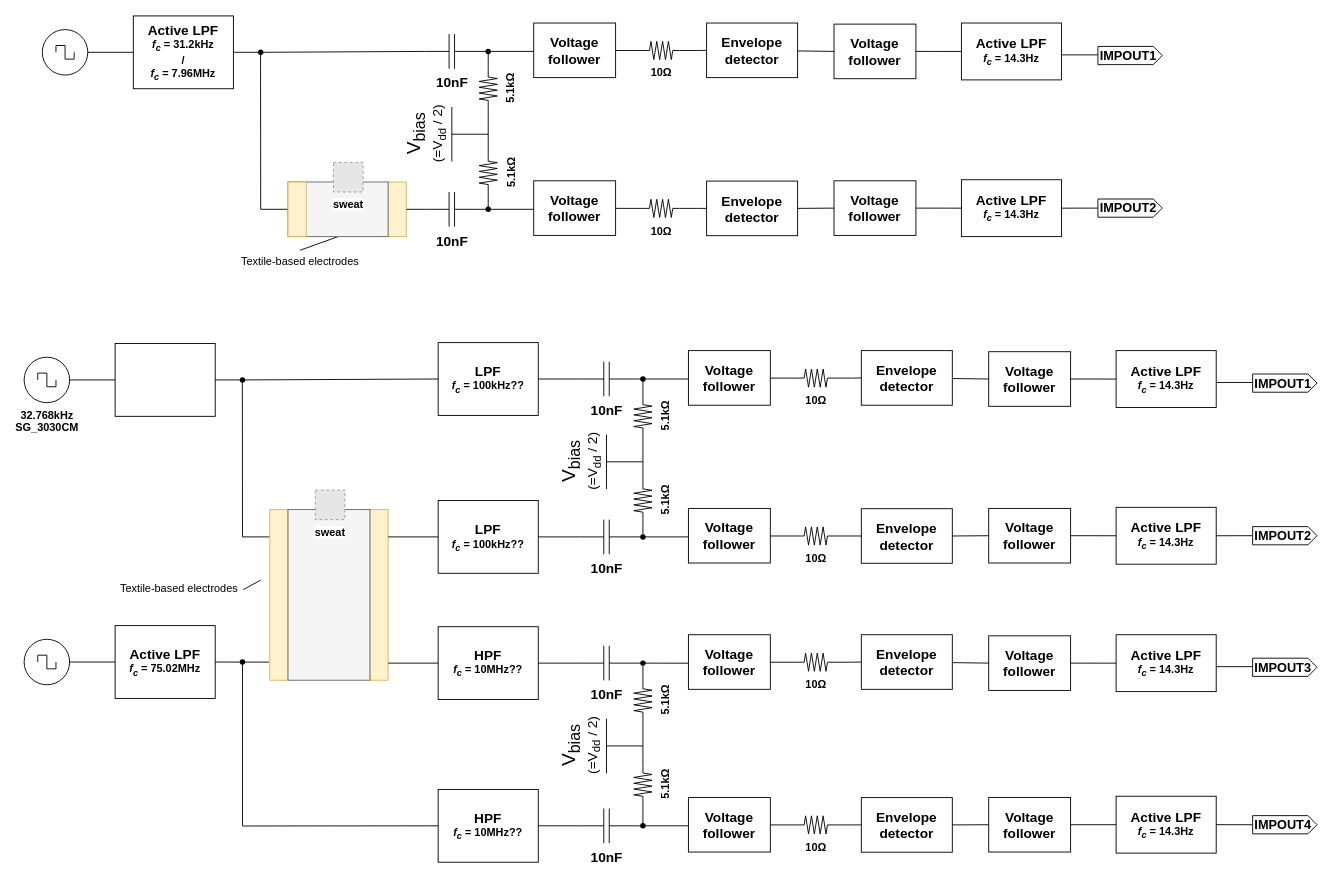
The diagram is 1333 pixels wide and 882 high, and some of its shapes have lost their labels. Grey dashed boxes stand in for pictures. The centre of each missing label's shape, as x and y in pixels:
25MHz SG_8018CM: the point at 46,661
32.7kHz/4MHz SG_3030CM SG_8018CM: the point at 64,52
Active LPF f c = 31.2kHz: the point at 164,379
